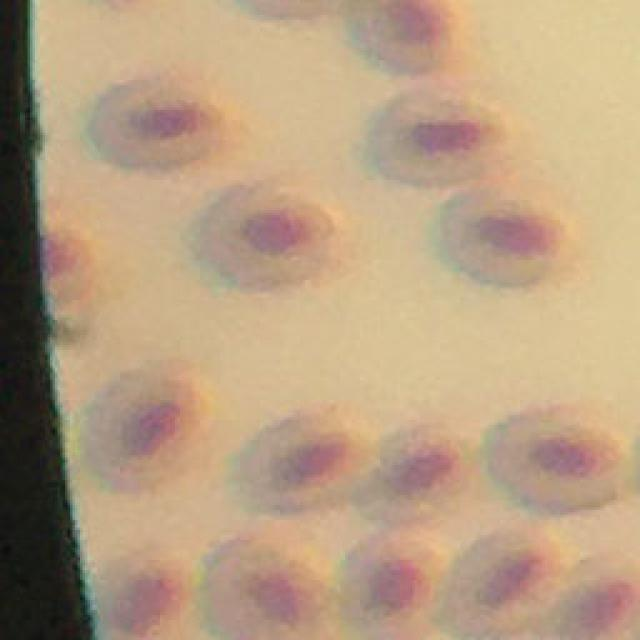RBC: (75, 354, 224, 494), (194, 180, 352, 294), (478, 406, 639, 517), (432, 520, 578, 640), (230, 408, 376, 520), (362, 84, 519, 186), (430, 185, 579, 289), (82, 78, 240, 175), (196, 533, 327, 640), (352, 420, 476, 527), (336, 529, 446, 640), (344, 0, 469, 80), (95, 542, 196, 640), (539, 545, 640, 640)
